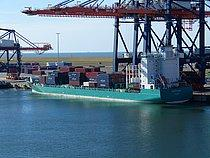Ship: (31, 46, 196, 114)
